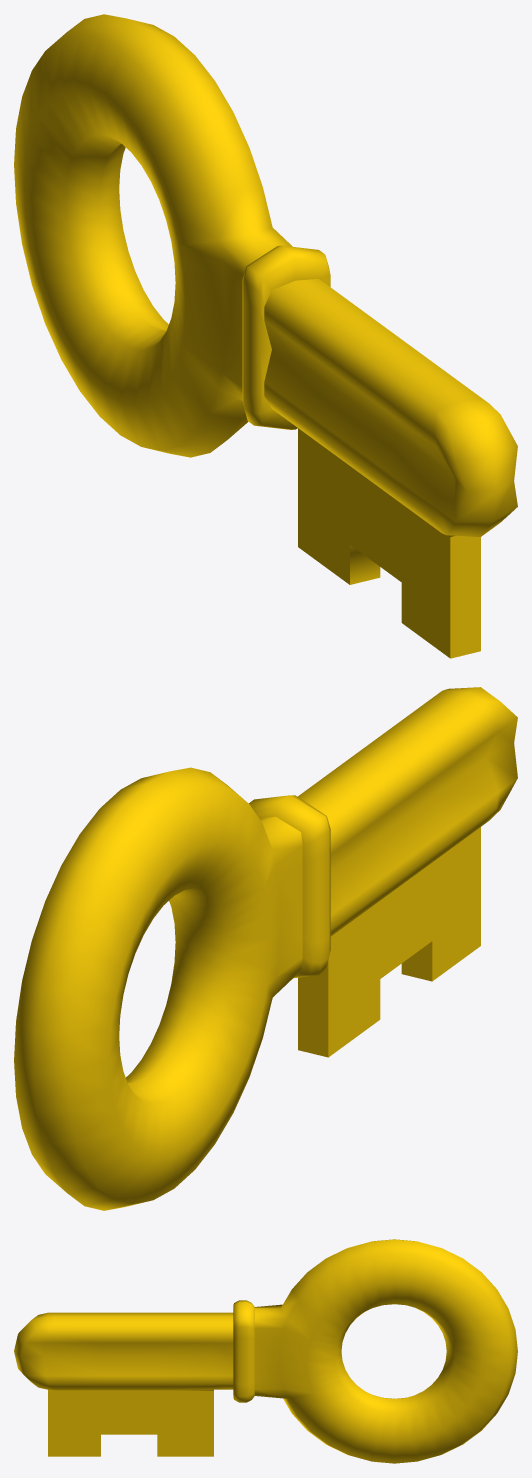
The model's file is key.fbx.
3 views of the same model, one above another, from view 1: azimuth 30°, elevation 25°; view 2: azimuth 150°, elevation 25°; view 3: azimuth 270°, elevation 25° (orthographic). The views are drawn at different scales.
Parts seen in each view (by area): view 1: Cylinder; view 2: Cylinder; view 3: Cylinder.
Part boxes in pixels (bbox=[...]): Cylinder: bbox=[14, 14, 517, 658]; Cylinder: bbox=[14, 687, 517, 1210]; Cylinder: bbox=[14, 1239, 517, 1463].
Bounding box in the file's own units: 70.44 × 324 × 662.
